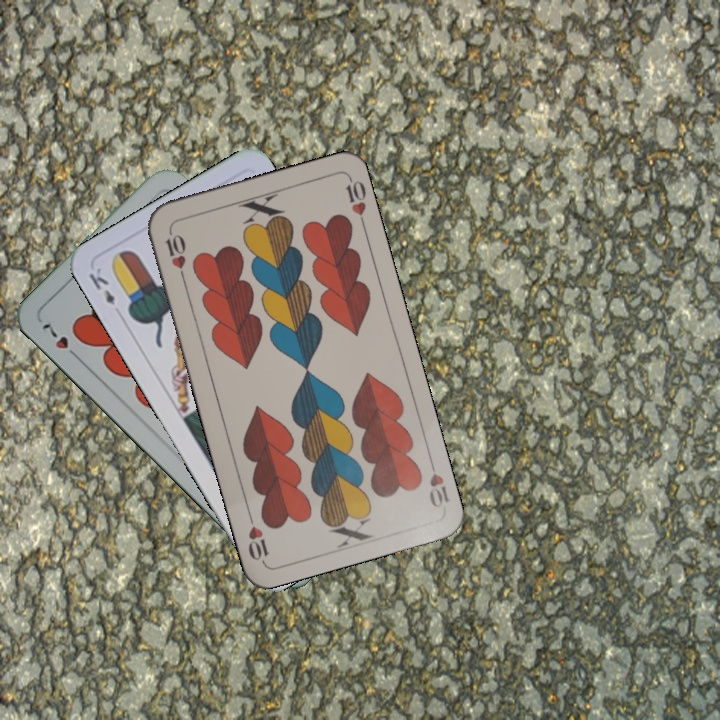EK: (84, 263, 118, 308)
H10: (162, 226, 189, 284), (425, 454, 452, 511)
H7: (37, 319, 83, 363)
